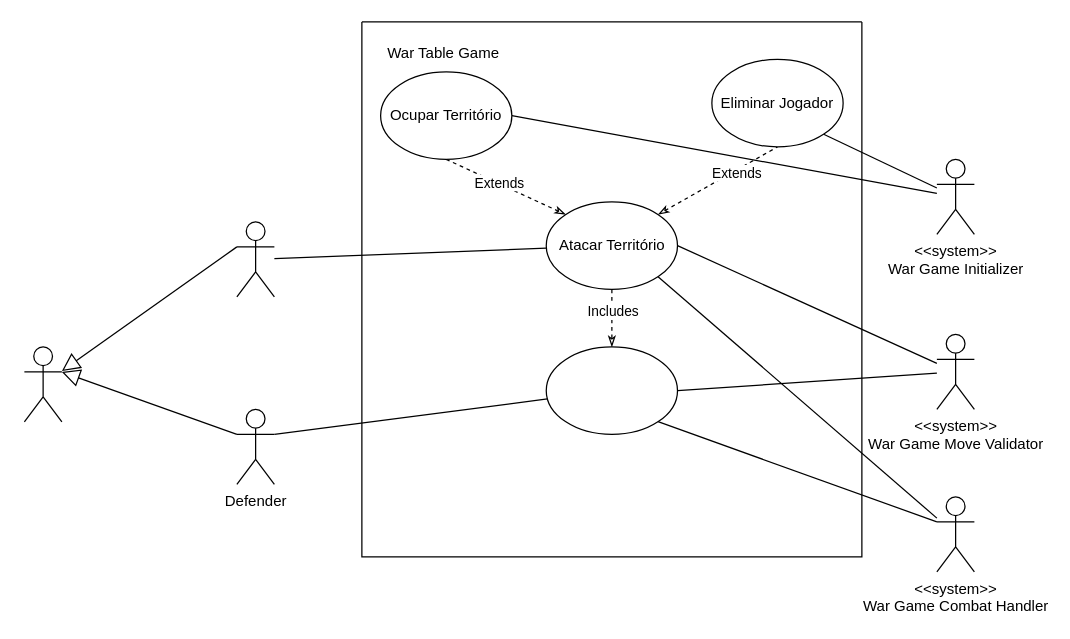
The diagram is 1070 pixels wide and 639 high, and some of its shapes have lost their labels. The centre of each missing label's shape, as x and y in pixels:
Attacker: the point at 255,259
Defender Território: the point at 611,390
Player: the point at 42,384
